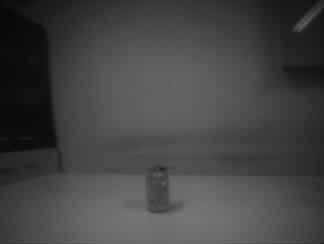Tin can: (144, 164, 170, 213)
